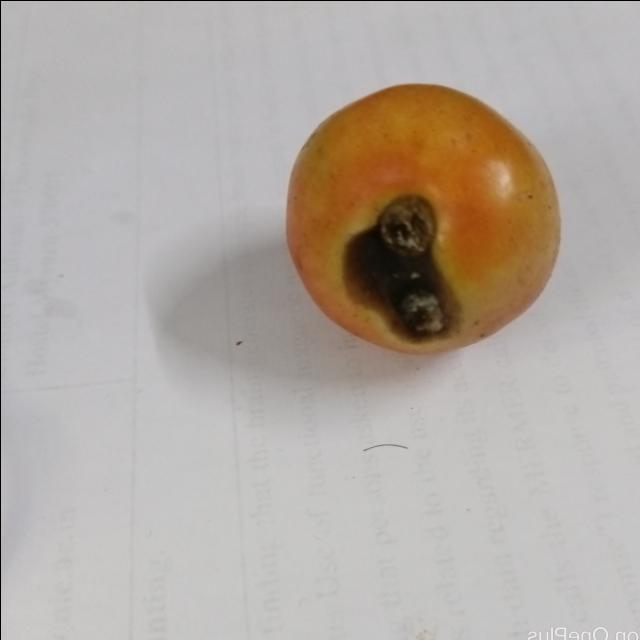Anthrocnose: (345, 194, 463, 340)
